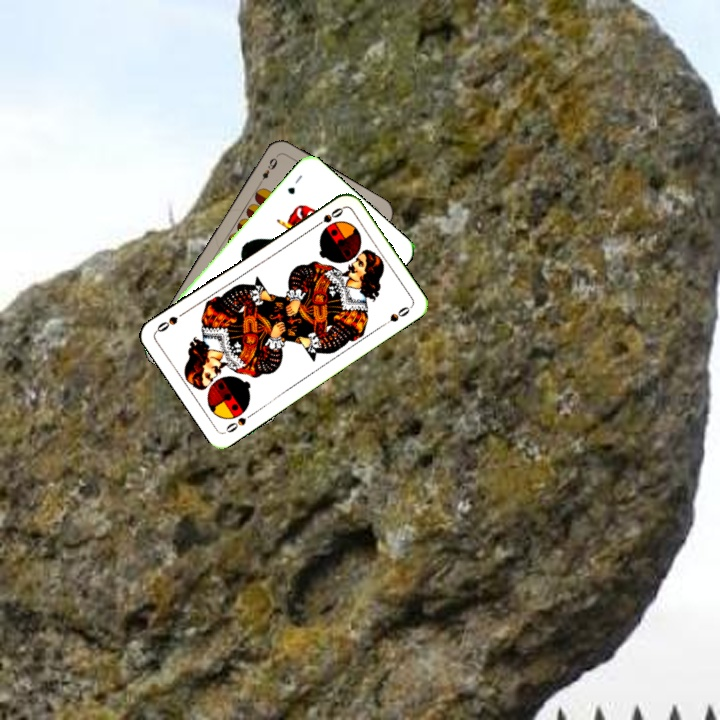E9: (254, 151, 280, 188)
GU: (283, 171, 305, 197)
SO: (310, 203, 346, 231), (221, 408, 257, 435)
